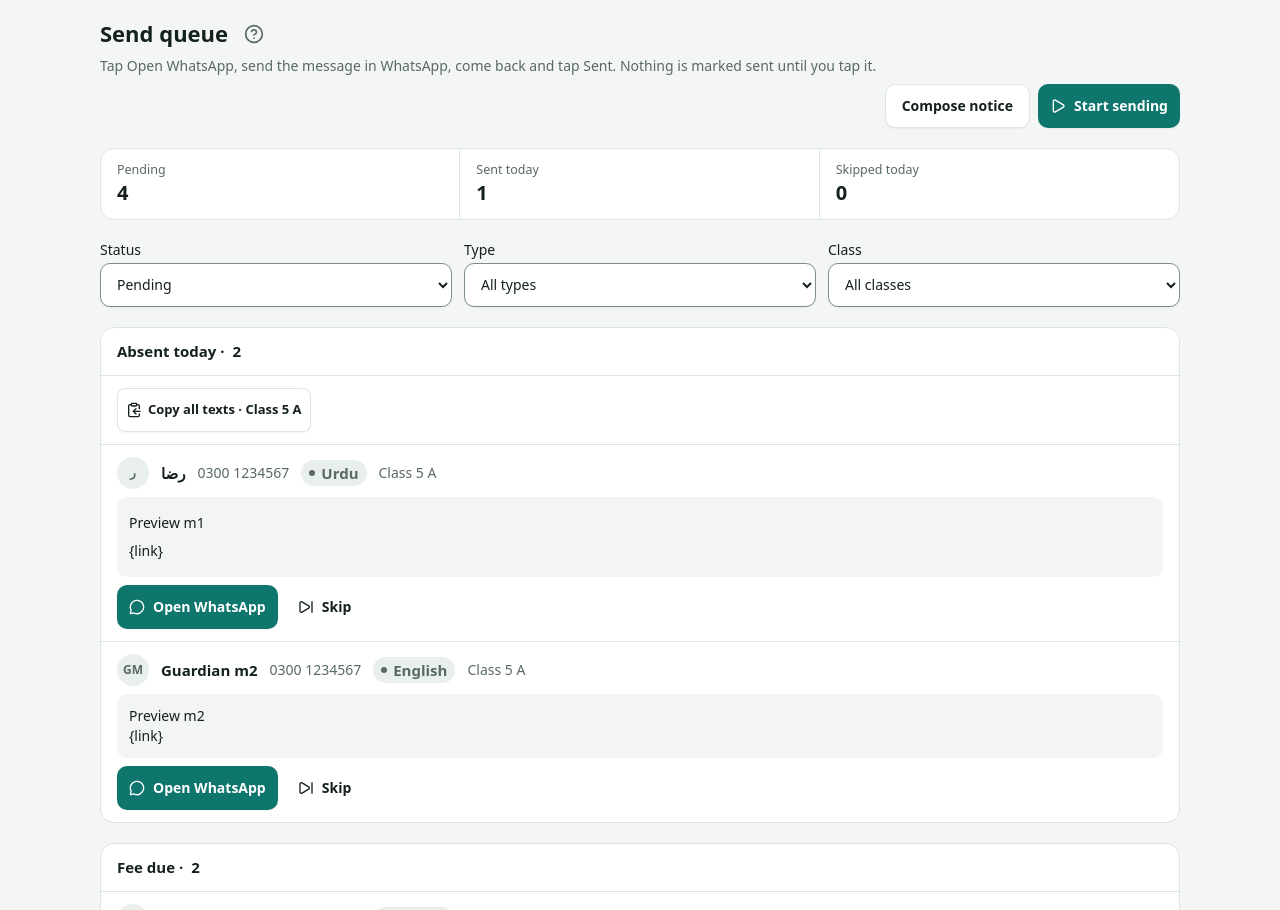
send queue › an absence that /open finds no longer absent shows the reason and moves on
Expected: the heading "Absent today · 2" is shown, [117, 341, 241, 361]
Click the button with id "msg-primary-m1".
click(197, 607)  # box [117, 585, 278, 629]
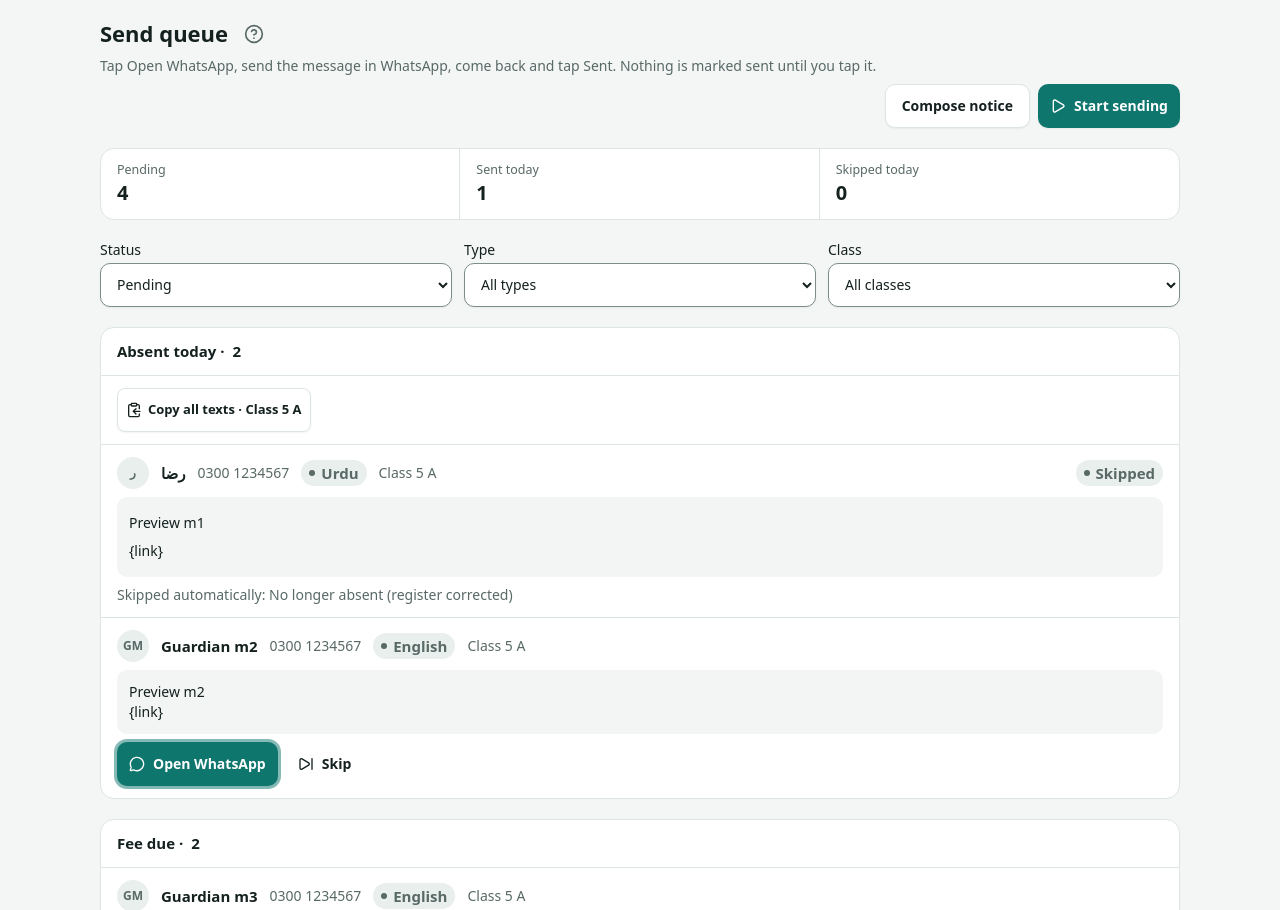
Expected: the text "Skipped automatically: No longer absent (register corrected)" is shown, [117, 585, 513, 604]
